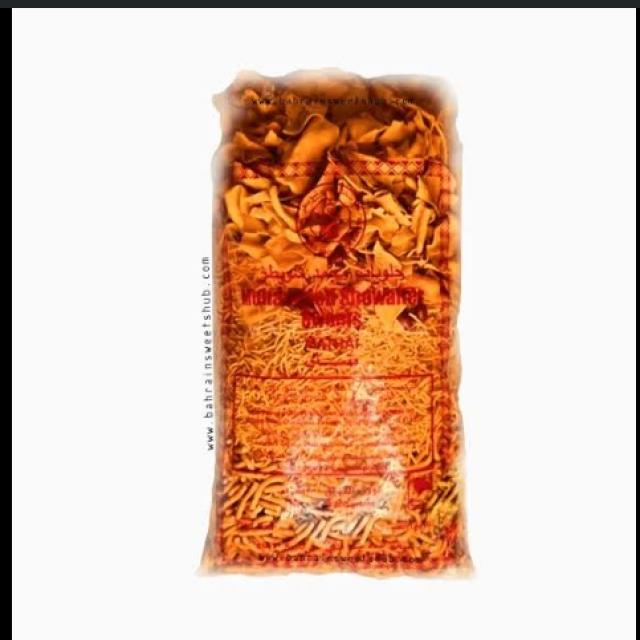Mattai: (212, 71, 478, 580)
